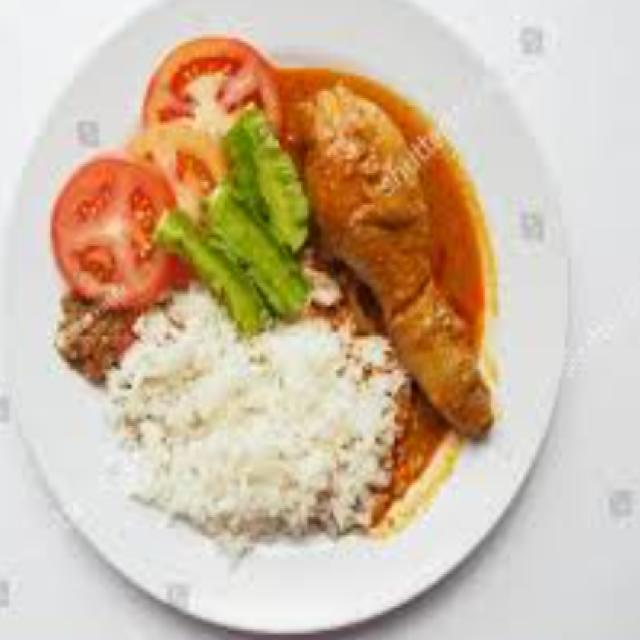rice: (125, 314, 382, 560)
